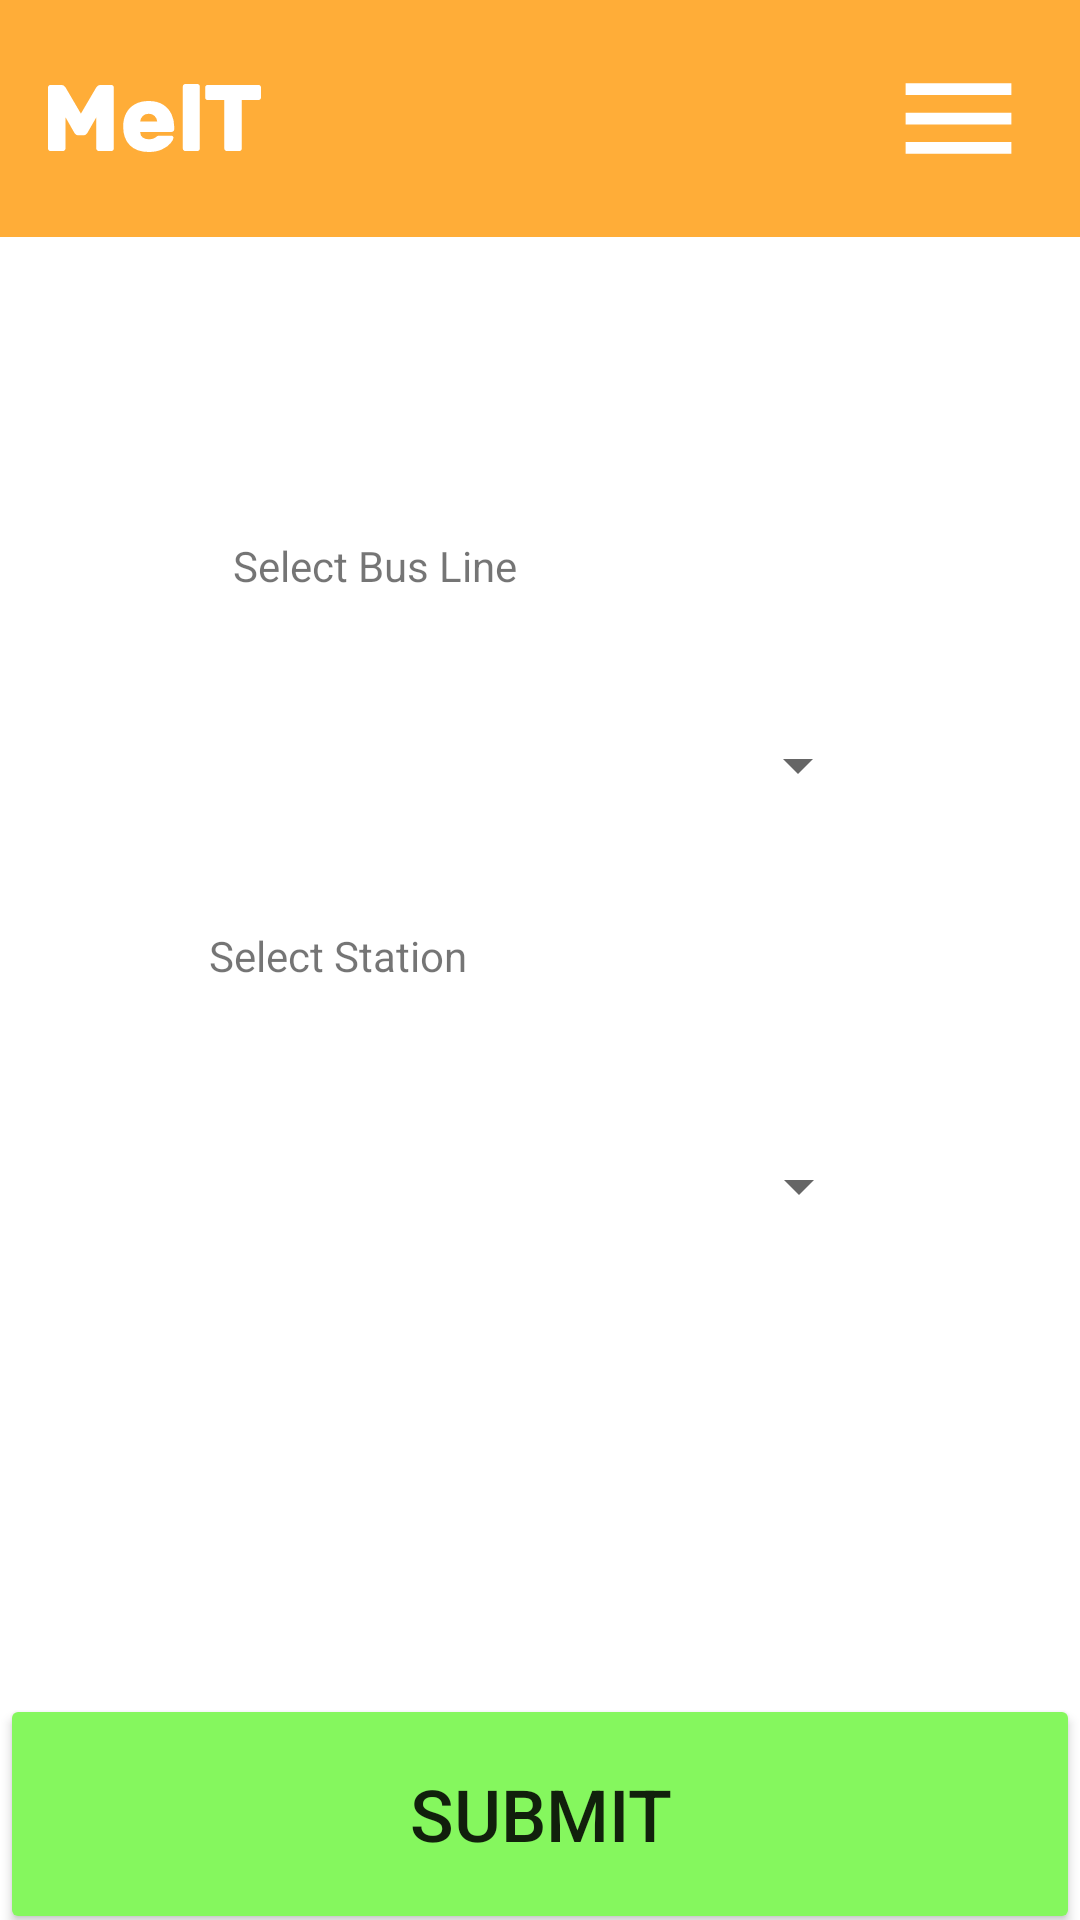

Named icons in this screenshot (1080px x 1920px) and their centers, point (x, y):
menu: point (958, 118)
